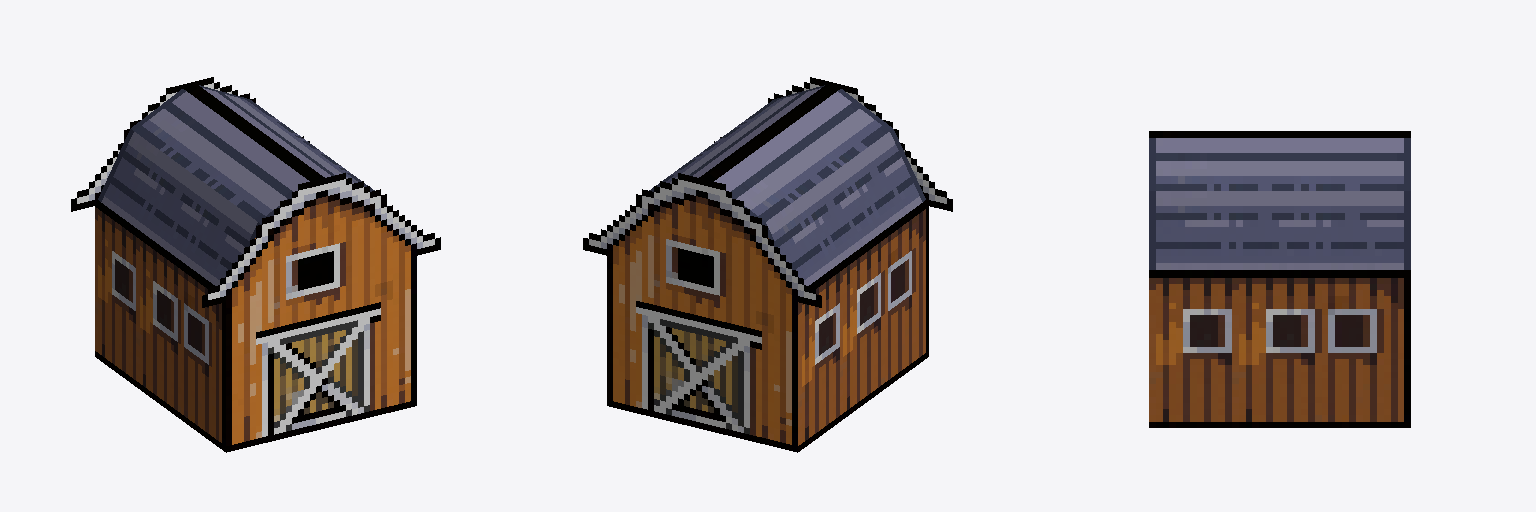
3 views of the same model, side by side, from view 1: azimuth 30°, elevation 25°; view 2: azimuth 150°, elevation 25°; view 3: azimuth 270°, elevation 25° (orthographic).
Visible parts, largest first — view 1: Default; view 2: Default; view 3: Default.
Boxes of the visible parts, x1,y1,x2,y2 form: Default: [71, 77, 440, 452]; Default: [583, 77, 952, 452]; Default: [1149, 131, 1410, 427].
Size of the model in its own units: 2.5 by 2.5 by 2.63.
Materials: 1 (1 with a texture image).